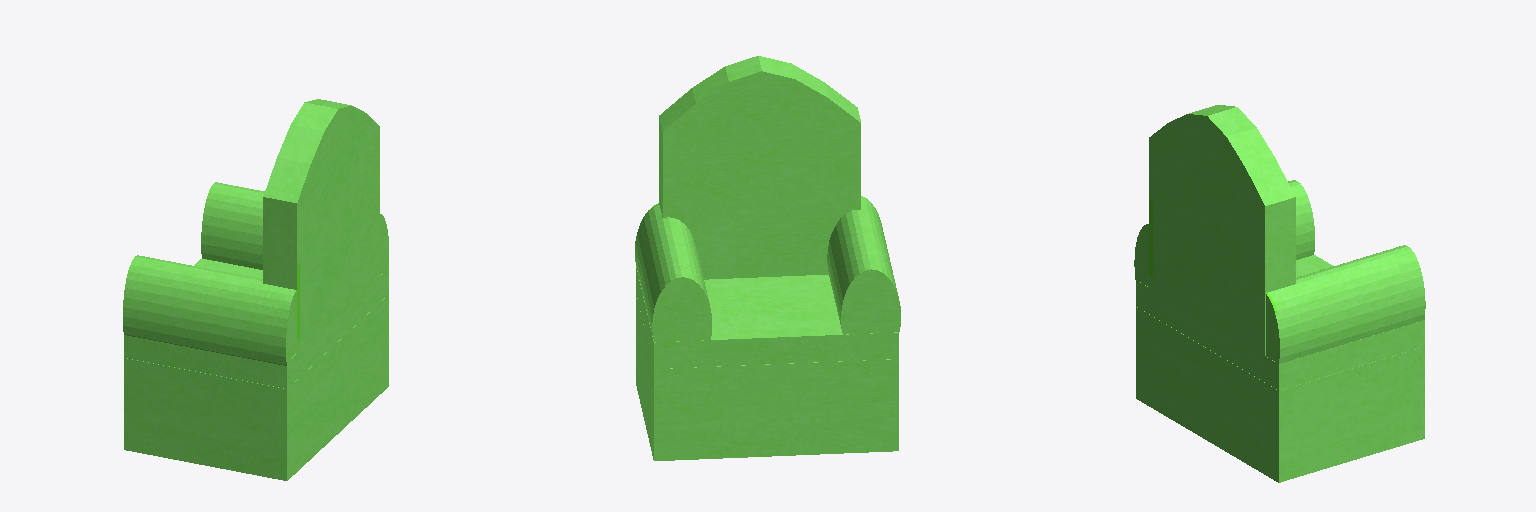
3 views of the same model, side by side, from view 1: azimuth 30°, elevation 25°; view 2: azimuth 150°, elevation 25°; view 3: azimuth 270°, elevation 25° (orthographic).
Parts seen in each view (by area): view 1: Cube.008_Cube.045; view 2: Cube.008_Cube.045; view 3: Cube.008_Cube.045.
Boxes of the visible parts, <box> form: Cube.008_Cube.045: <box>123,99,388,480</box>; Cube.008_Cube.045: <box>635,56,900,460</box>; Cube.008_Cube.045: <box>1134,105,1425,482</box>.
Bounding box in the file's own units: 12.72 × 14.82 × 12.04.
Materials: 1 (1 with a texture image).